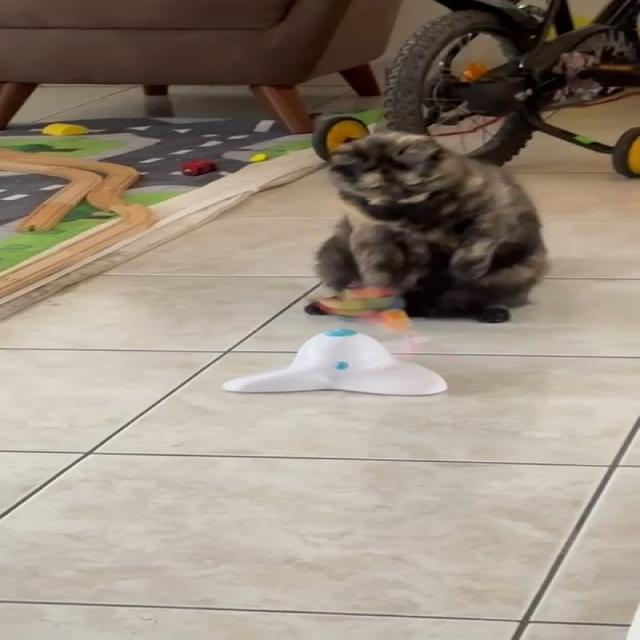authorized: (310, 130, 550, 323)
